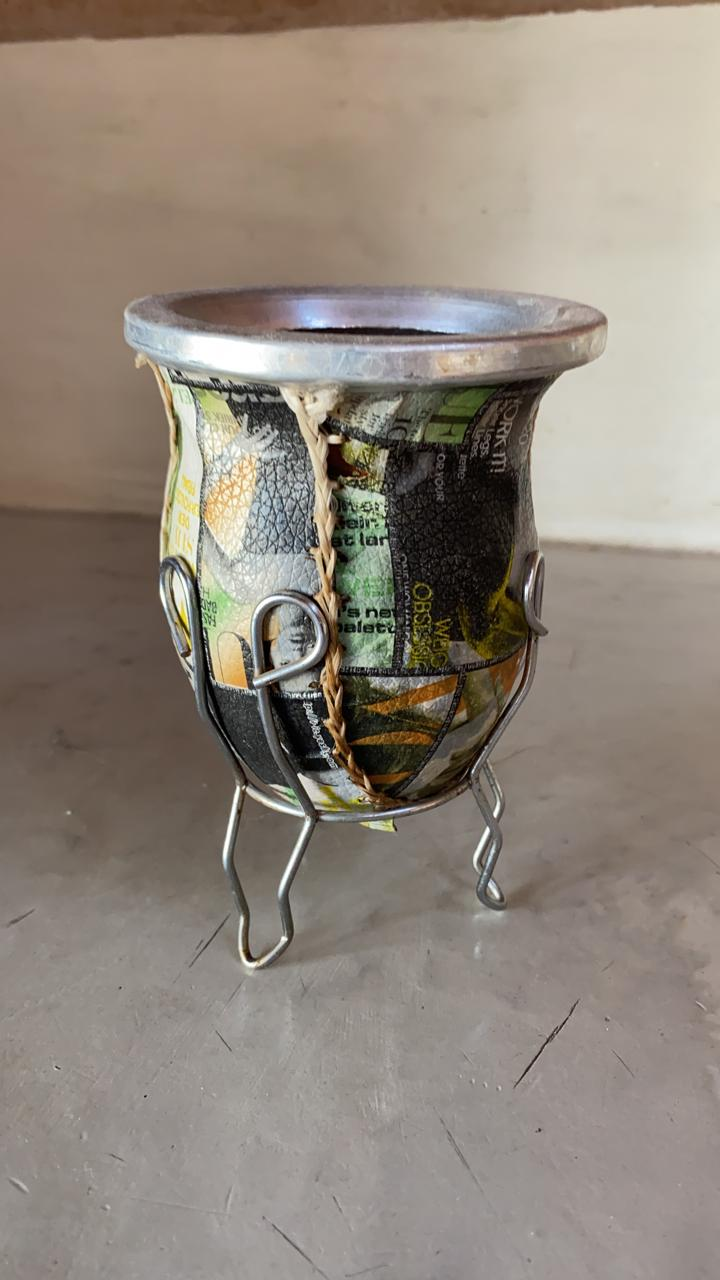mate: (117, 280, 611, 819)
